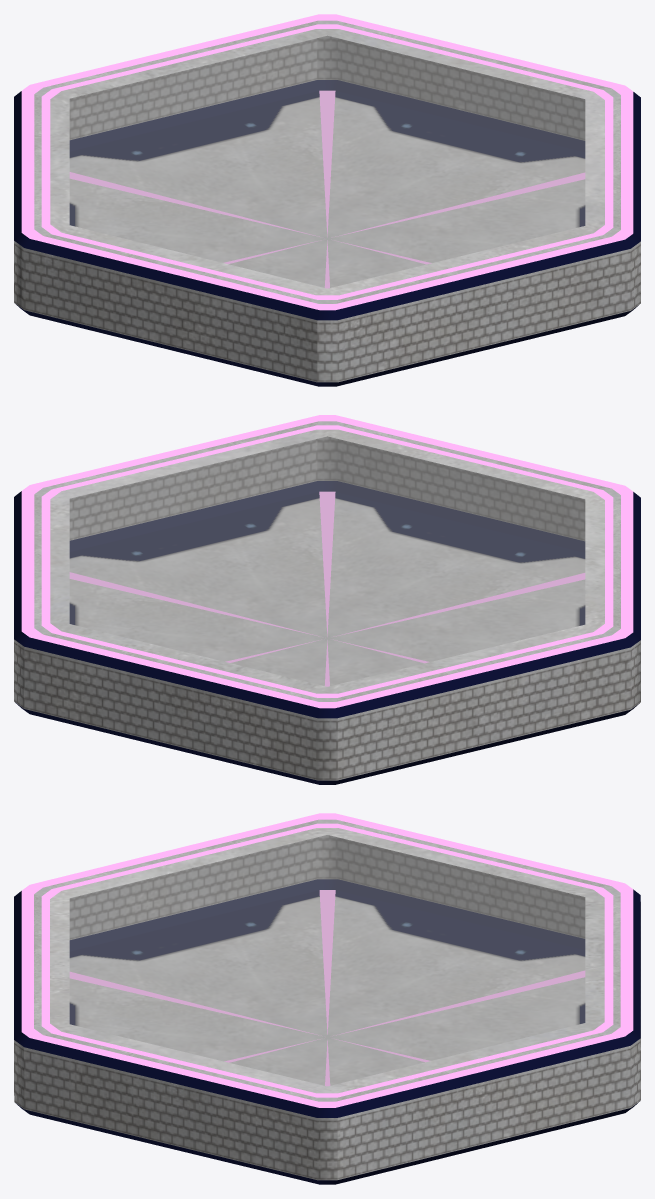
The model's file is Hex_Deco_01_Art.fbx.
3 renders of one model, top to bottom at view 1: azimuth 30°, elevation 25°; view 2: azimuth 150°, elevation 25°; view 3: azimuth 270°, elevation 25°, orthographic.
Parts seen in each view (by area): view 1: Hex_Deco_01; view 2: Hex_Deco_01; view 3: Hex_Deco_01.
Boxes of the visible parts, box(x1,y1,x2,y2) form: Hex_Deco_01: box(14, 14, 640, 386); Hex_Deco_01: box(14, 415, 640, 784); Hex_Deco_01: box(14, 813, 640, 1184).
Bounding box in the file's own units: 116 × 14.05 × 102.
